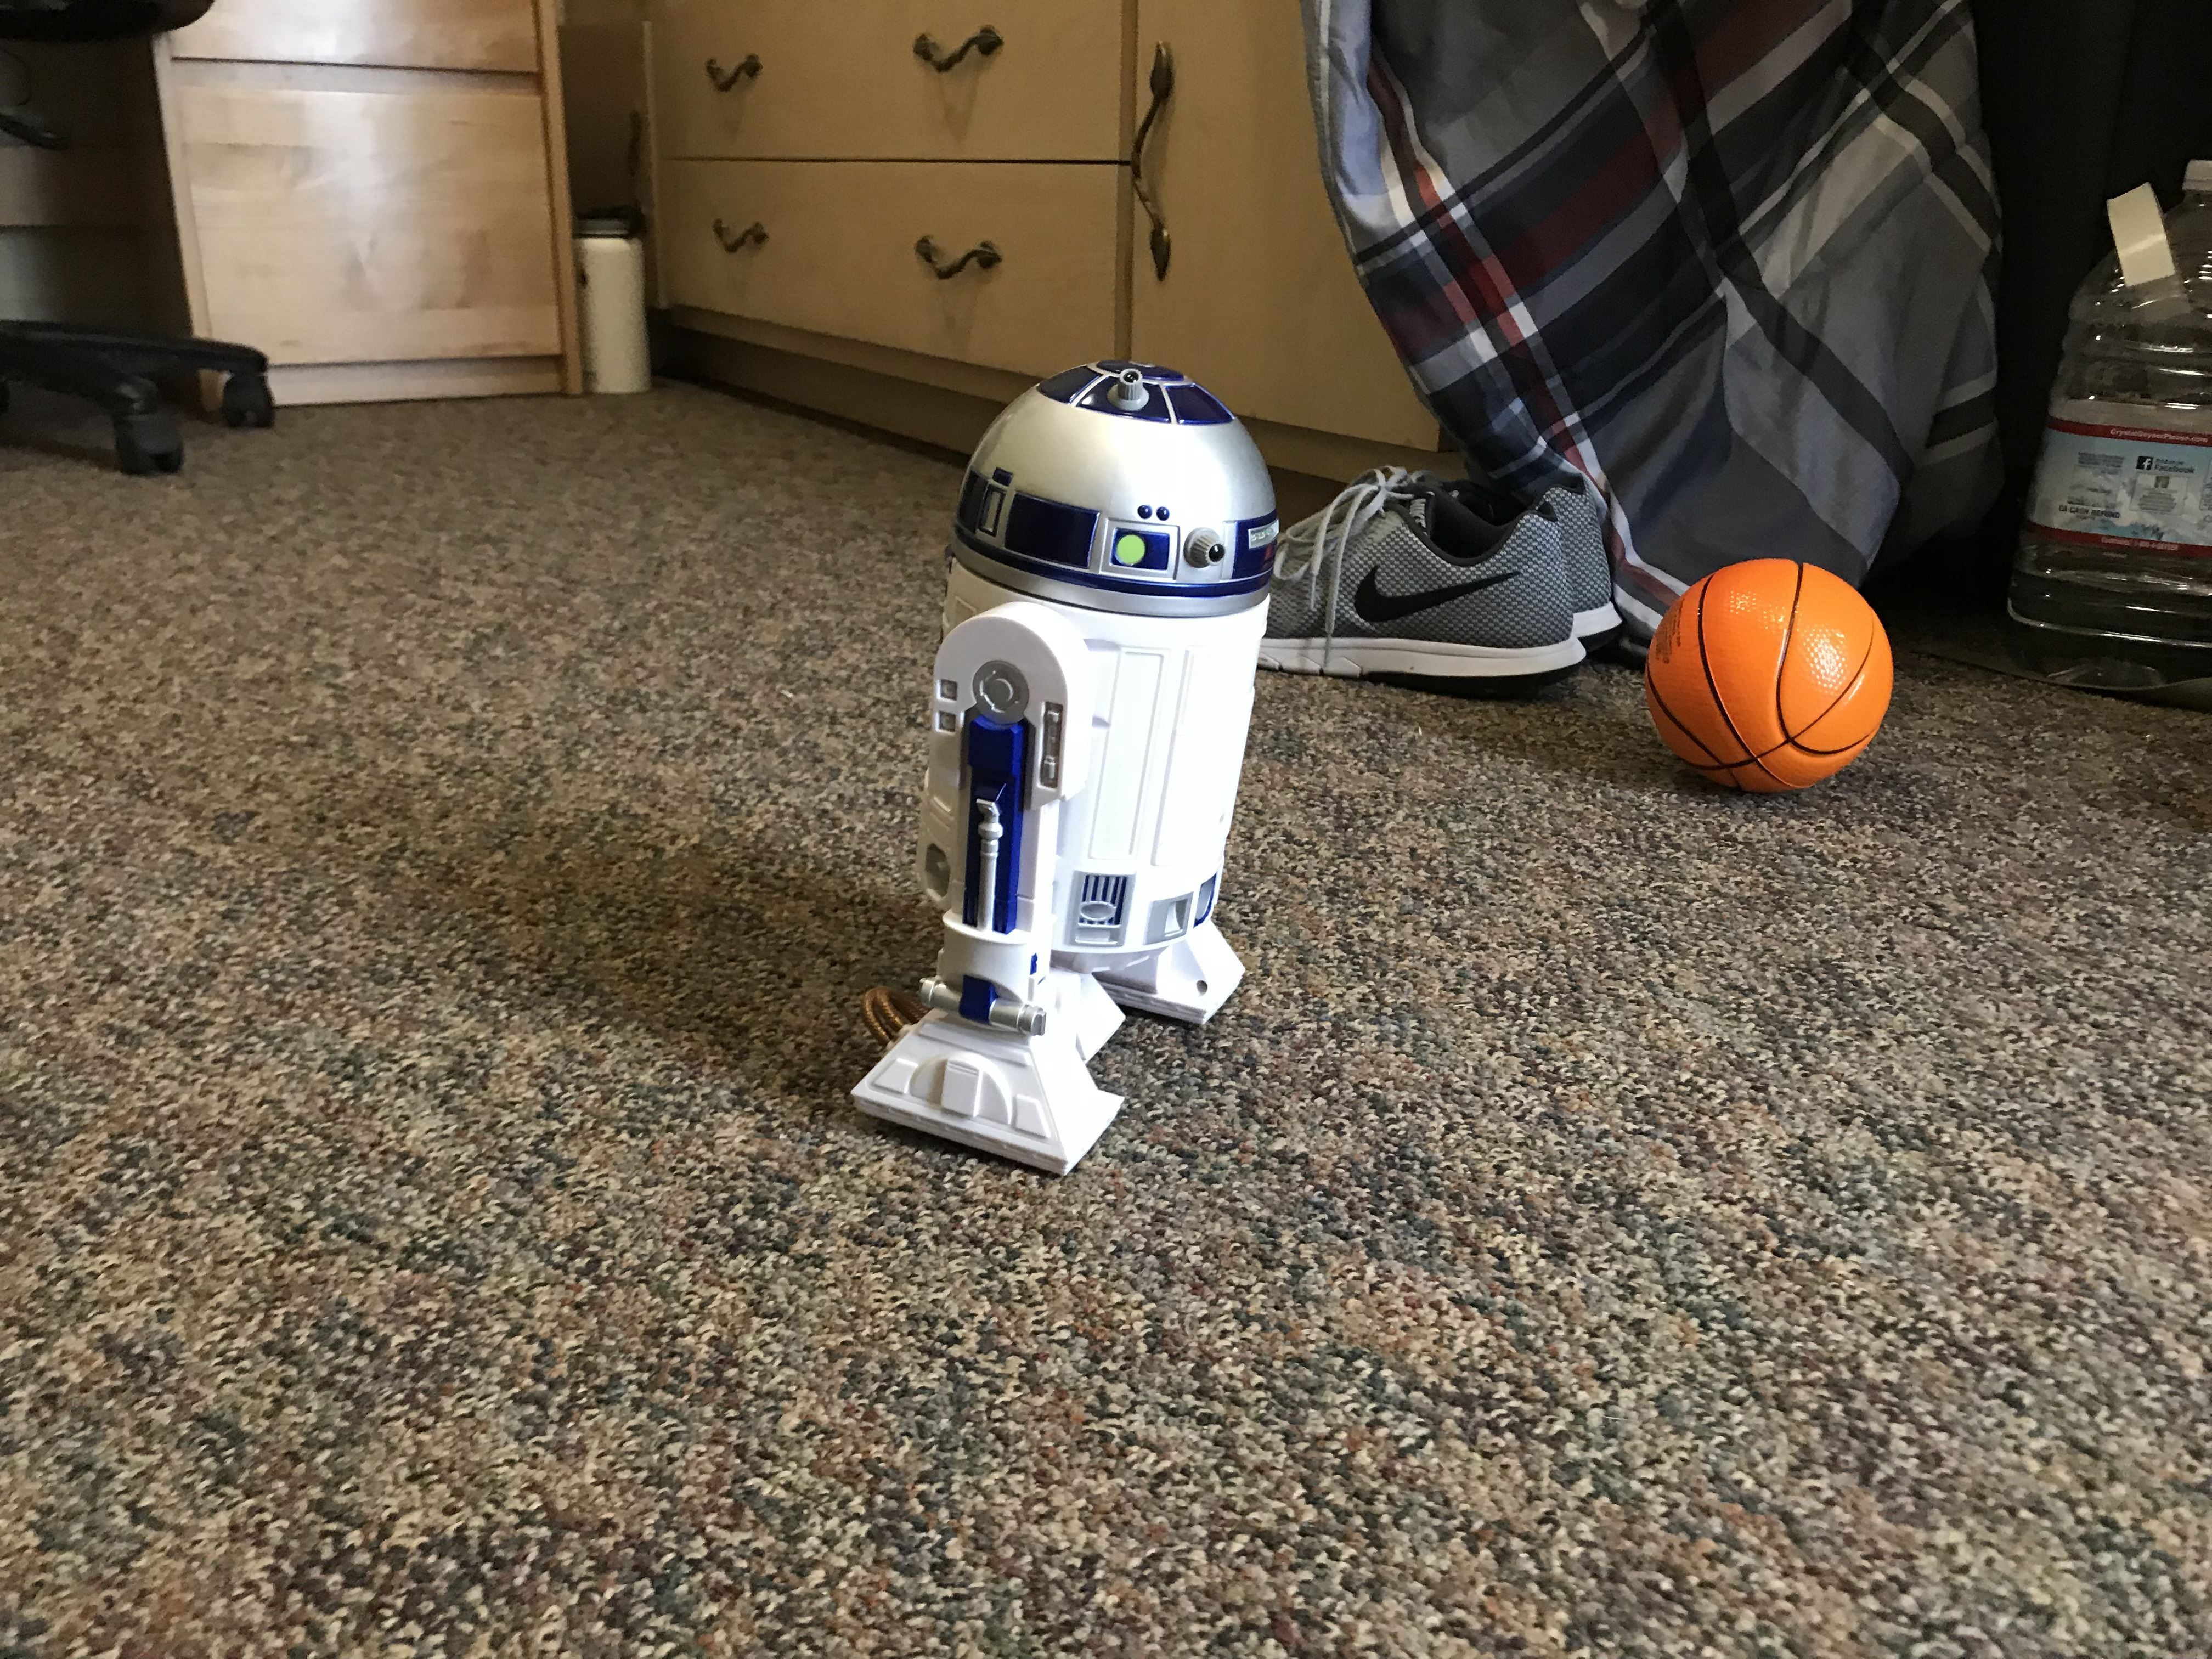r2d2: (848, 359, 1282, 1176)
